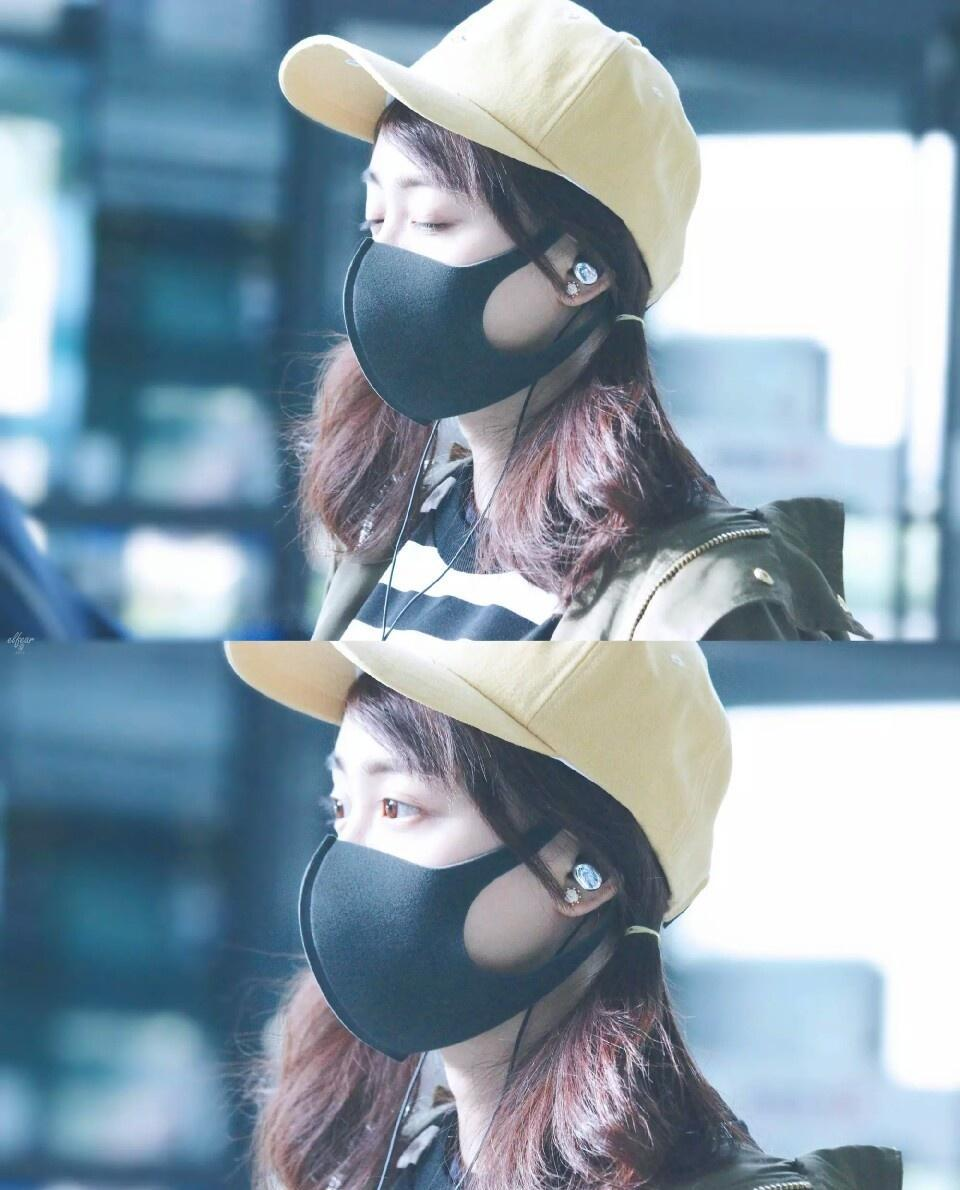OK: (296, 722, 631, 1057), (333, 150, 604, 421)
